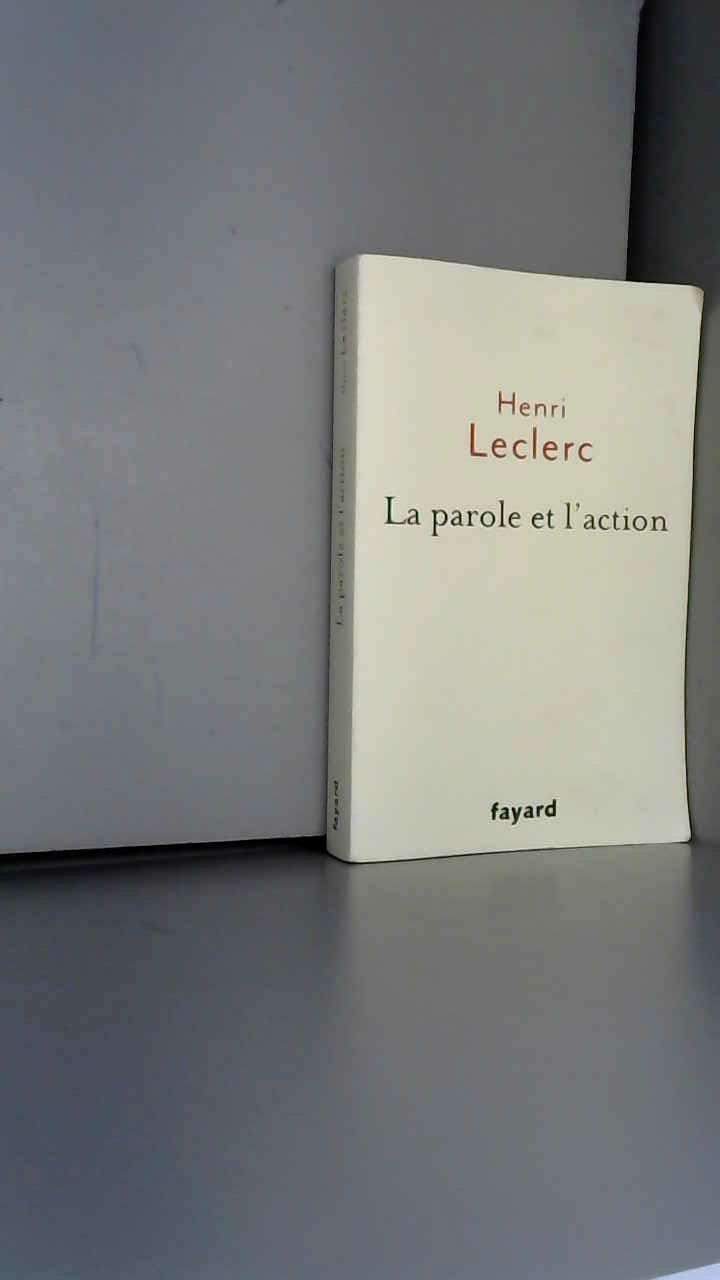book: (300, 230, 716, 930)
